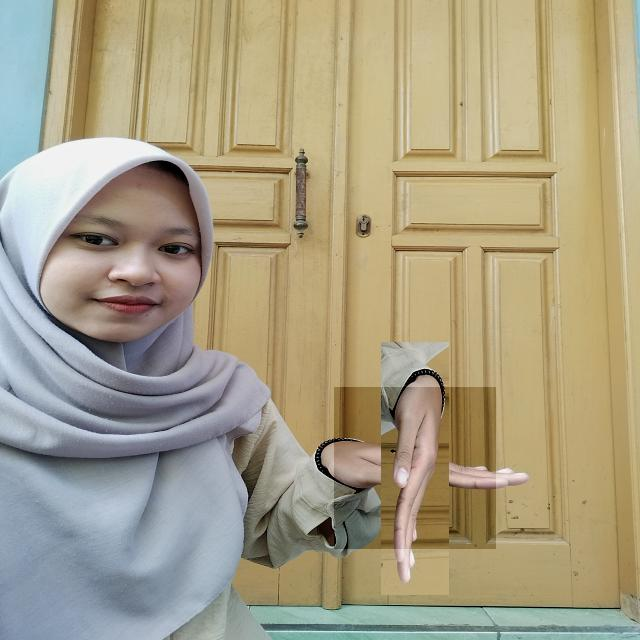adik: (334, 387, 496, 549)
